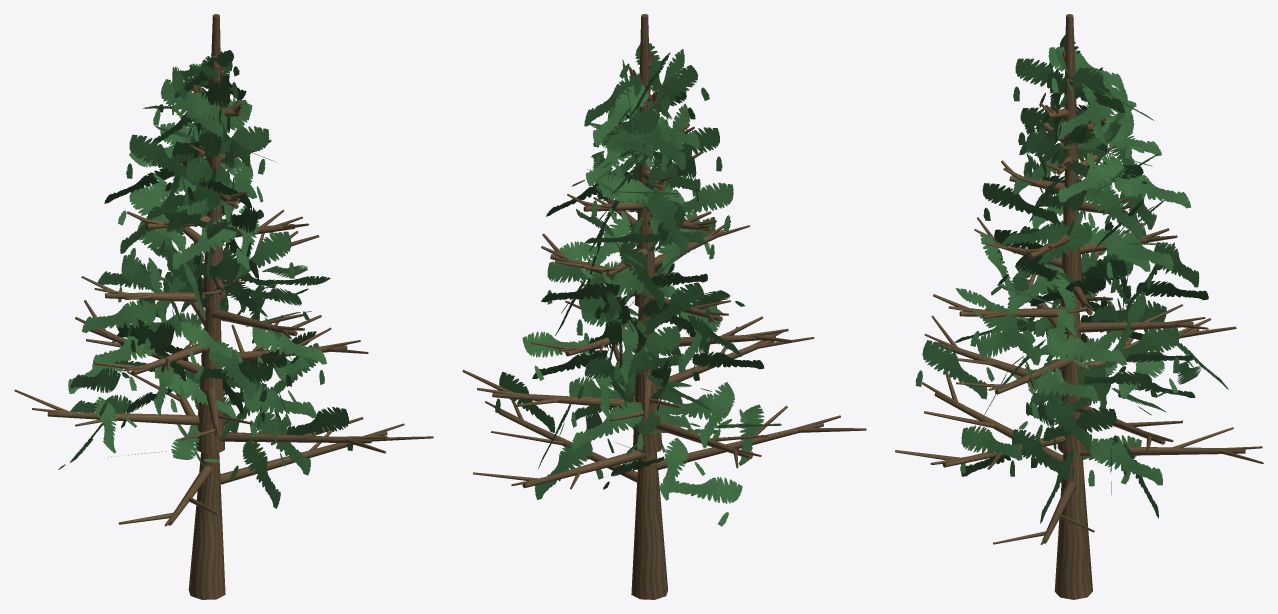
The picture shows the model from 3 angles, left to right: view 1: azimuth 30°, elevation 25°; view 2: azimuth 150°, elevation 25°; view 3: azimuth 270°, elevation 25°; orthographic projection.
Parts seen in each view (by area): view 1: pine-needle, pine-bark; view 2: pine-needle, pine-bark; view 3: pine-needle, pine-bark.
Boxes of the visible parts, x1,y1,x2,y2 form: pine-needle: (58,50,352,508); pine-bark: (14,14,433,599); pine-needle: (495,43,781,526); pine-bark: (462,14,866,599); pine-needle: (915,34,1228,523); pine-bark: (895,14,1263,599).
Size of the model in its own units: 6.17 by 10.01 by 5.77.
2 materials, 2 textured.
